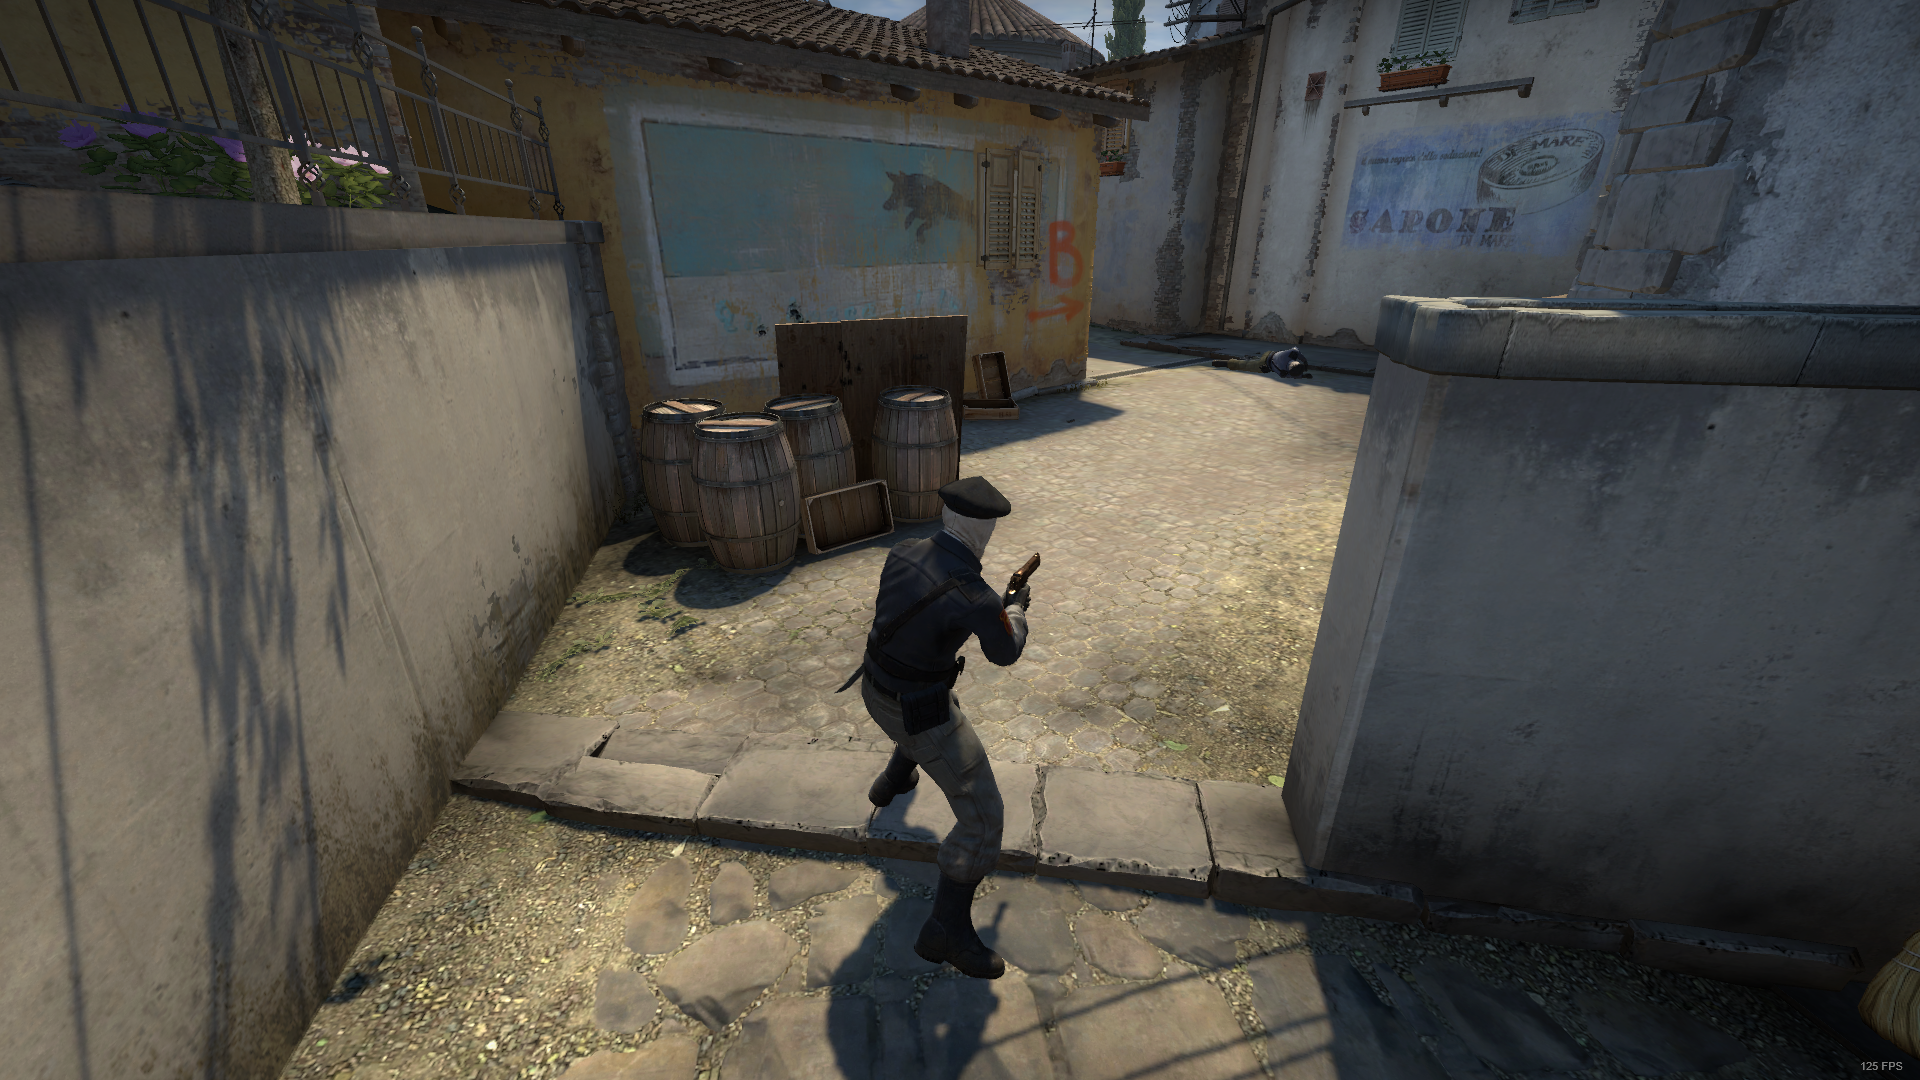t: (843, 480, 1048, 985)
